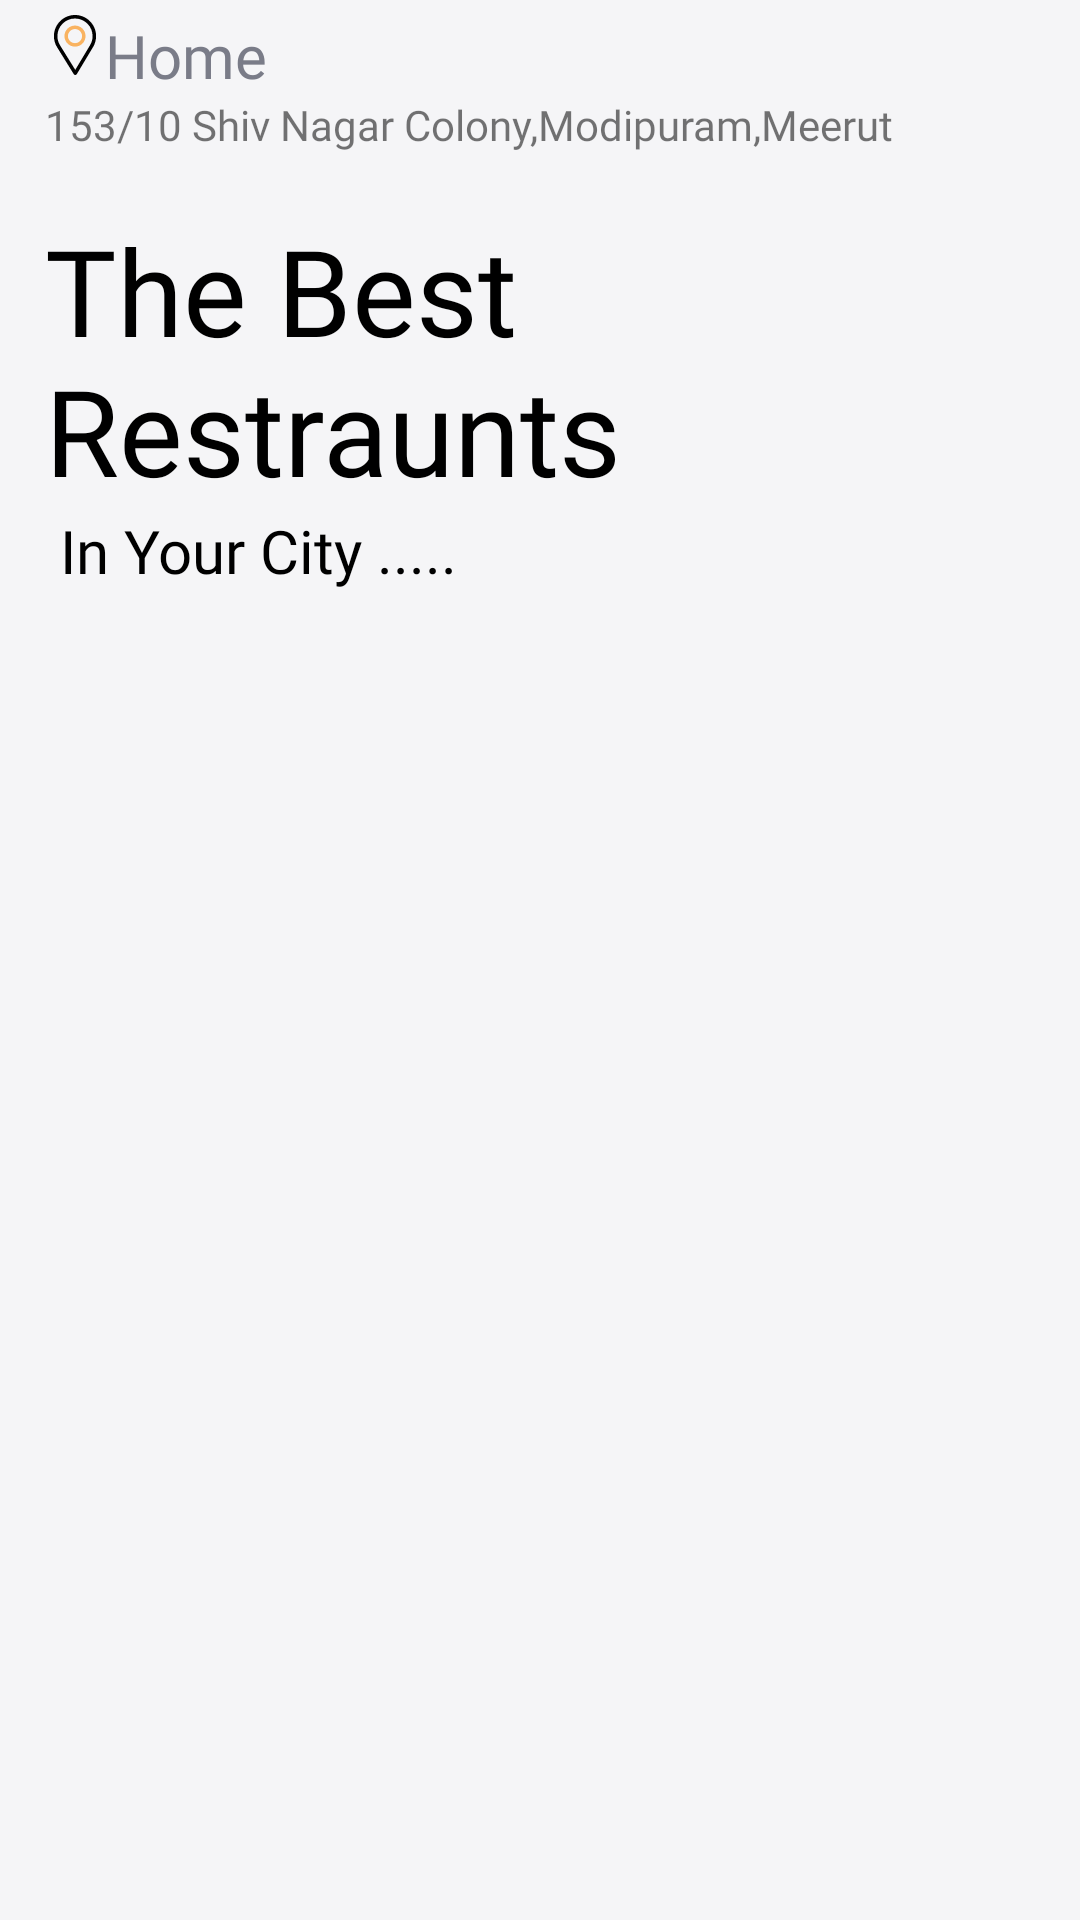

Icons on this 1080 × 1920 Android screen, each with the point to tap as (x=x, y=y):
location: (x=75, y=45)
